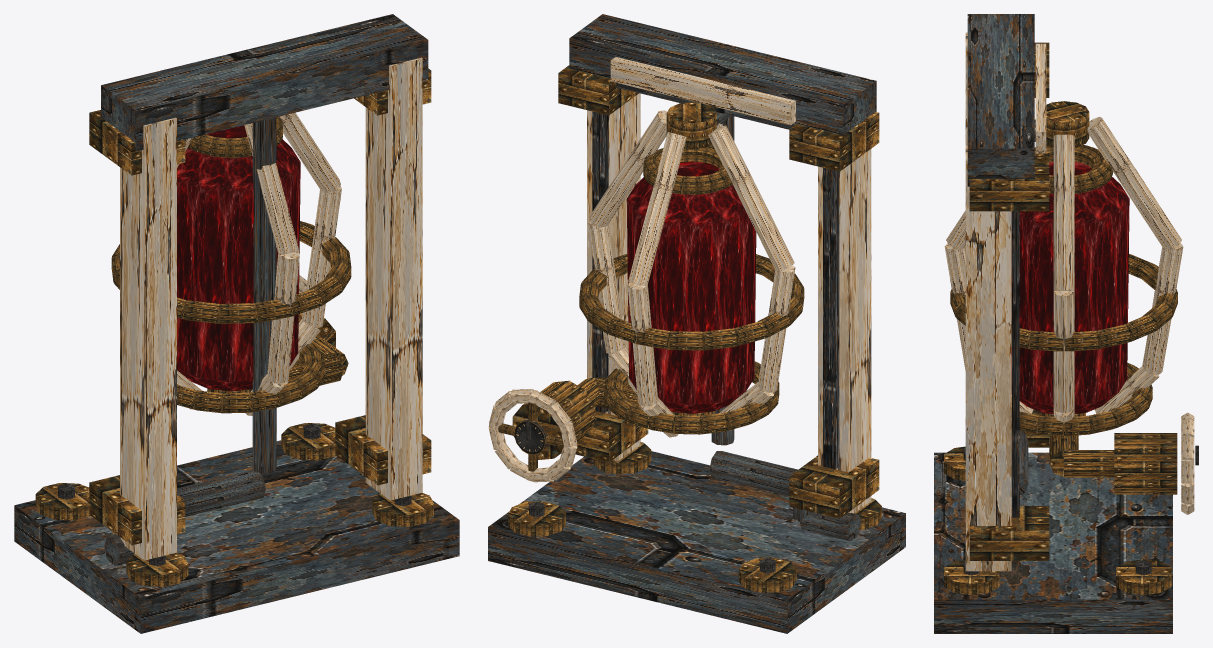
The model's file is hanging-pressure-bulb.gltf.
3 renders of one model, left to right at view 1: azimuth 30°, elevation 25°; view 2: azimuth 150°, elevation 25°; view 3: azimuth 270°, elevation 25°, orthographic. The views are drawn at different scales.
Parts seen in each view (by area): view 1: FloorPlinth, RearColumn_0.32, RearColumn_-0.32, Header, StockVolume, RearFeed_0, ColumnBracket_0.32_0.22, ColumnBracket_-0.32_0.22, BulbSuspension1.5707963267948966_1, FloorConduit_0, BulbSuspension0_1, BulbSuspension1.5707963267948966_0 (+11 smaller); view 2: FloorPlinth, StockVolume, Header, RearColumn_-0.32, ColumnInset_-0.32, HeaderIvoryInlay, RearColumn_0.32, ColumnBracket_-0.32_0.22, BulbSuspension3.141592653589793_0, ColumnBracket_-0.32_1.14, BulbSuspension4.71238898038469_0, ValveHousing (+19 smaller); view 3: FloorPlinth, StockVolume, RearColumn_0.32, Header, ValveHousing, ColumnBracket_0.32_0.22, BulbSuspension0_0, BulbSuspension4.71238898038469_0, ColumnBracket_0.32_1.14, ColumnInset_0.32, BulbSuspension0_1, BulbSuspension4.71238898038469_1 (+21 smaller).
Boxes of the visible parts, box(x1,y1,x2,y2) form: FloorPlinth: box(14, 440, 459, 633); RearColumn_0.32: box(365, 57, 422, 500); RearColumn_-0.32: box(120, 117, 176, 560); Header: box(101, 14, 428, 151); StockVolume: box(177, 125, 300, 391); RearFeed_0: box(252, 117, 276, 473); ColumnBracket_0.32_0.22: box(335, 415, 431, 485); ColumnBracket_-0.32_0.22: box(89, 475, 185, 545); BulbSuspension1.5707963267948966_1: box(267, 251, 299, 383); FloorConduit_0: box(177, 470, 265, 516); BulbSuspension0_1: box(302, 186, 341, 327); BulbSuspension1.5707963267948966_0: box(244, 123, 299, 255); FloorPlinth: box(488, 451, 905, 633); StockVolume: box(626, 161, 756, 413); Header: box(569, 14, 876, 135); RearColumn_-0.32: box(818, 149, 871, 513); ColumnInset_-0.32: box(823, 168, 839, 469); HeaderIvoryInlay: box(610, 57, 795, 125); RearColumn_0.32: box(587, 93, 640, 461); ColumnBracket_-0.32_0.22: box(789, 455, 879, 518); BulbSuspension3.141592653589793_0: box(708, 125, 794, 271); ColumnBracket_-0.32_1.14: box(789, 112, 879, 171); BulbSuspension4.71238898038469_0: box(628, 132, 686, 286); ValveHousing: box(512, 380, 595, 459); FloorPlinth: box(934, 452, 1172, 633); StockVolume: box(1011, 162, 1129, 414); RearColumn_0.32: box(965, 145, 1011, 571); Header: box(967, 14, 1034, 186); ValveHousing: box(1114, 433, 1177, 494); ColumnBracket_0.32_0.22: box(969, 506, 1049, 560); BulbSuspension0_0: box(1053, 134, 1074, 290); BulbSuspension4.71238898038469_0: box(1087, 116, 1181, 249); ColumnBracket_0.32_1.14: box(969, 156, 1049, 211); ColumnInset_0.32: box(1012, 211, 1019, 517); BulbSuspension0_1: box(1053, 291, 1074, 413); BulbSuspension4.71238898038469_1: box(1142, 243, 1183, 374).
Bounding box in the file's own units: 0.83 × 1.26 × 0.6315.
Materials: 6 (6 with a texture image).
